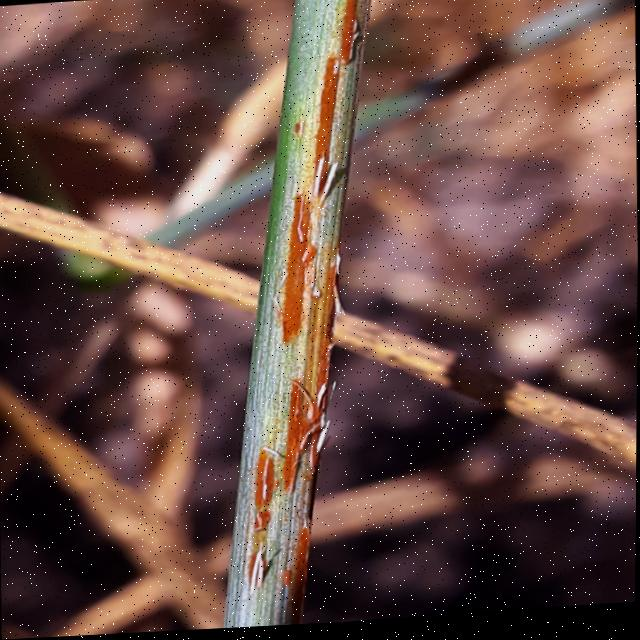black_stem_rust: (194, 0, 416, 632)
